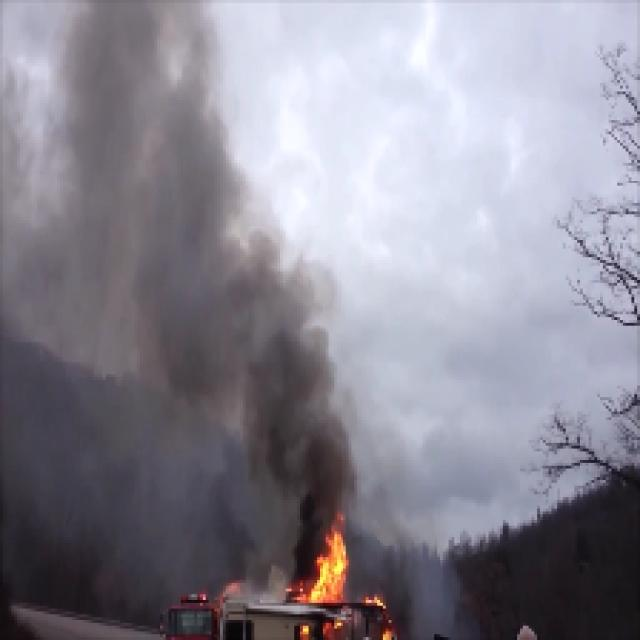smoke: (35, 43, 213, 450), (233, 304, 345, 478)
